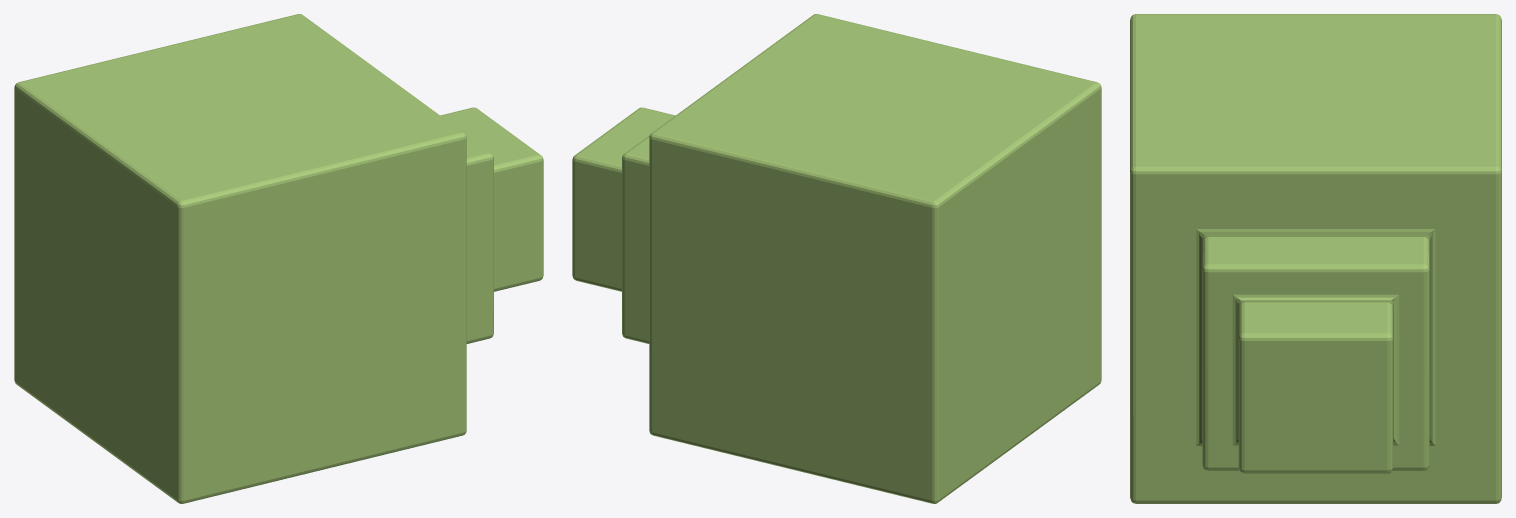
3 renders of one model, left to right at view 1: azimuth 30°, elevation 25°; view 2: azimuth 150°, elevation 25°; view 3: azimuth 270°, elevation 25°, orthographic. The views are drawn at different scales.
Visible parts, largest first — view 1: Cube; view 2: Cube; view 3: Cube.
Part boxes in pixels (x1=…): Cube: x1=14, y1=14, x2=543, y2=503; Cube: x1=572, y1=14, x2=1101, y2=503; Cube: x1=1130, y1=14, x2=1501, y2=503.
Size of the model in its own units: 2.87 by 2 by 2.
